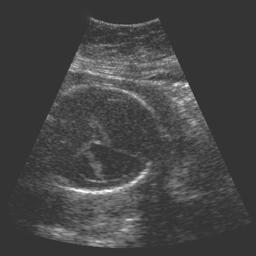abnormal: (46, 85, 165, 196)
